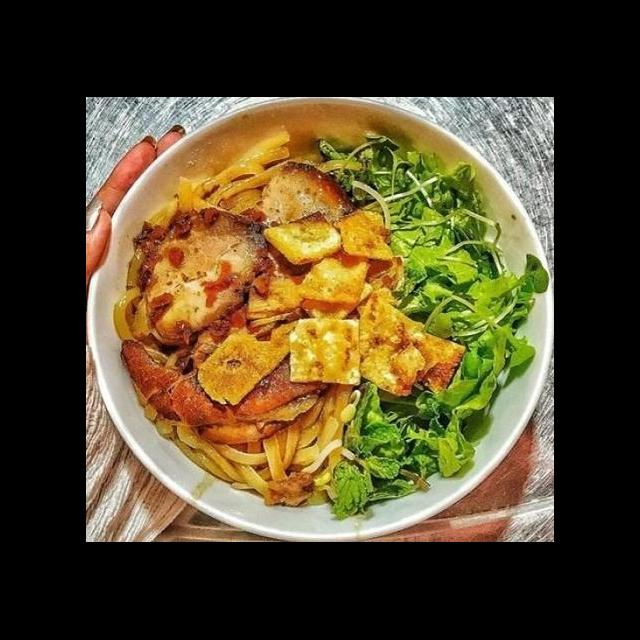banh da: (195, 314, 304, 408), (353, 314, 470, 398), (352, 292, 427, 400), (294, 228, 376, 308), (287, 316, 364, 388), (259, 208, 345, 272), (329, 208, 397, 262)
mi: (168, 380, 362, 510), (143, 126, 296, 232), (109, 250, 160, 346)
mi quang: (88, 134, 554, 542)
thit heo: (242, 160, 361, 340), (127, 205, 273, 348), (167, 340, 336, 448), (116, 338, 211, 428)
